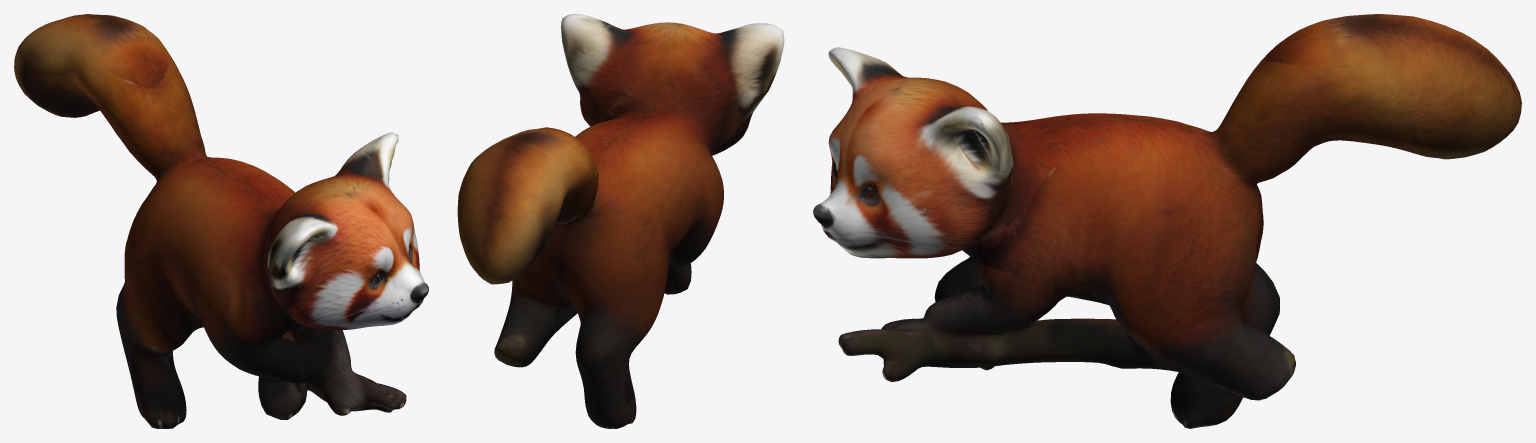
File: red_panda.glb
3 views of the same model, side by side, from view 1: azimuth 30°, elevation 25°; view 2: azimuth 150°, elevation 25°; view 3: azimuth 270°, elevation 25° (orthographic). The views are drawn at different scales.
Visible parts, largest first — view 1: Mesh1_Mesh1.072; view 2: Mesh1_Mesh1.072; view 3: Mesh1_Mesh1.072.
Boxes of the visible parts, box(x1,y1,x2,y2) form: Mesh1_Mesh1.072: box(14, 14, 428, 428); Mesh1_Mesh1.072: box(457, 14, 784, 428); Mesh1_Mesh1.072: box(813, 14, 1521, 428).
Size of the model in its own units: 0.7026 by 1.28 by 1.99.
Materials: 1 (1 with a texture image).
